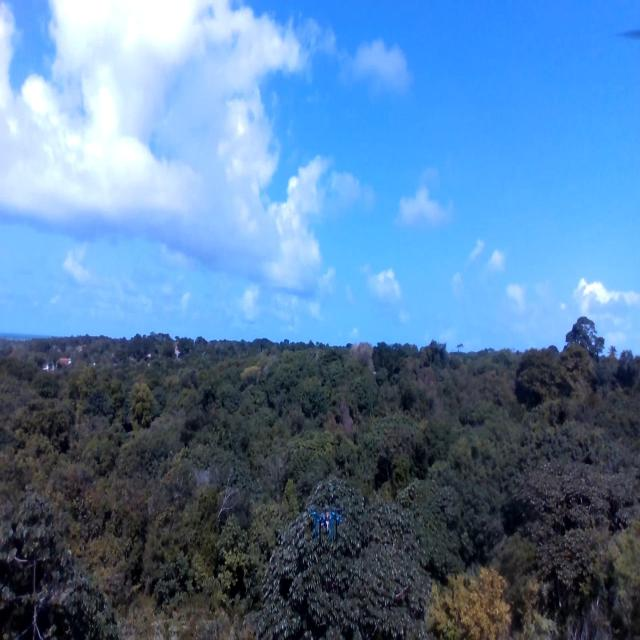-uav-: (303, 497, 346, 550)
